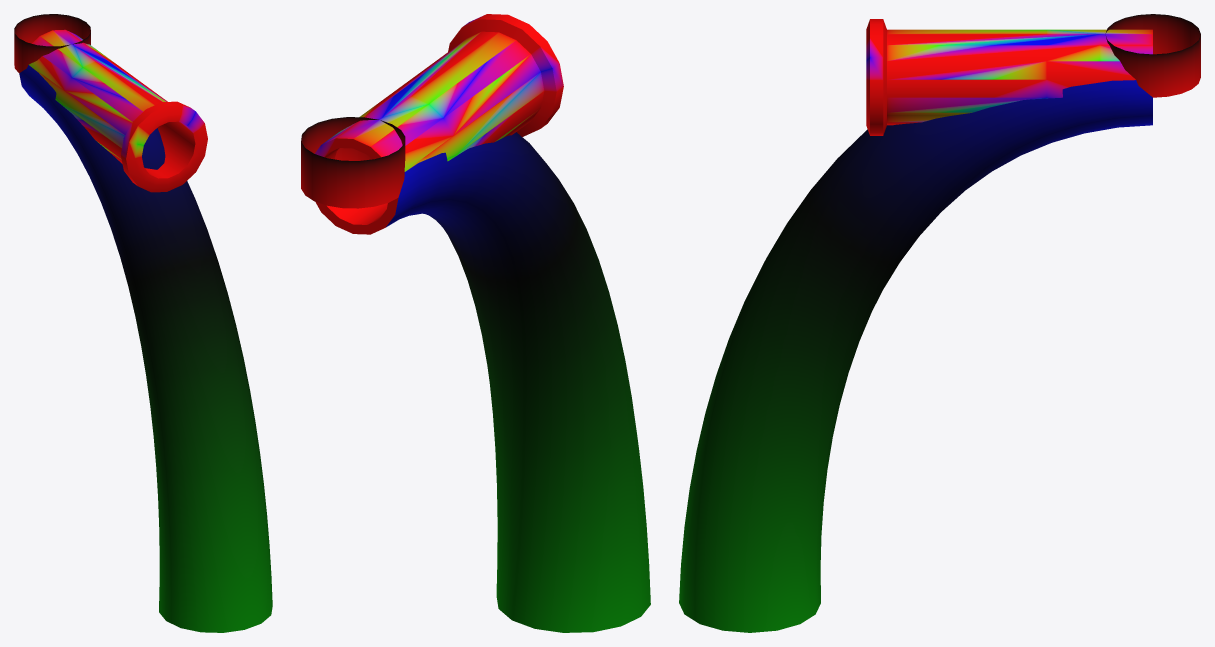
The model's file is SW3_DemoMeshes.fbx.
The picture shows the model from 3 angles, left to right: view 1: azimuth 30°, elevation 25°; view 2: azimuth 150°, elevation 25°; view 3: azimuth 270°, elevation 25°; orthographic projection. The views are drawn at different scales.
Parts seen in each view (by area): view 1: PipeWater, Pipe, FogRing; view 2: PipeWater, Pipe, FogRing; view 3: PipeWater, Pipe, FogRing.
Part boxes in pixels (x1,y1,x2,y2): PipeWater: (19, 65, 272, 632); Pipe: (29, 29, 207, 192); FogRing: (14, 14, 90, 73); PipeWater: (386, 132, 650, 632); Pipe: (314, 14, 563, 234); FogRing: (301, 117, 405, 208); PipeWater: (679, 80, 1152, 632); Pipe: (866, 19, 1152, 135); FogRing: (1105, 14, 1200, 97).
Bounding box in the file's own units: 0.0149 × 0.0667 × 0.0546.
